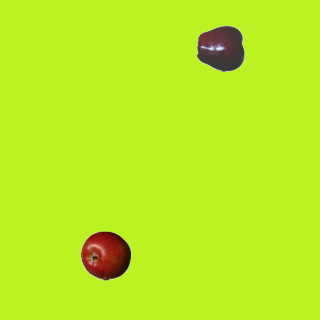Apple Braeburn: (80, 230, 130, 280)
Apple Red Delicious: (196, 23, 246, 73)
